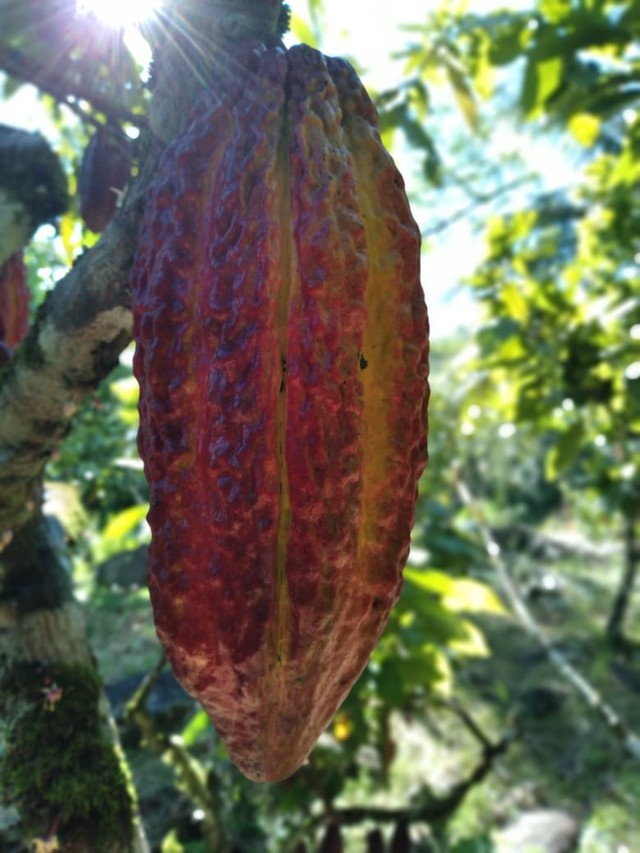Health: (120, 26, 441, 800)
